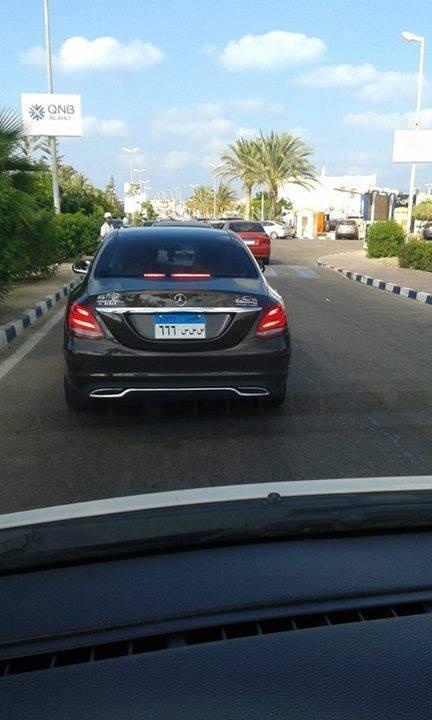6: (164, 324, 171, 336), (170, 325, 177, 336), (157, 324, 164, 335)
License Plate: (152, 312, 207, 340), (244, 239, 255, 245)
Seen: (189, 327, 197, 336), (181, 327, 189, 336), (197, 328, 205, 336)
car: (67, 229, 293, 414), (229, 222, 271, 262), (263, 221, 293, 238), (336, 220, 359, 241)
